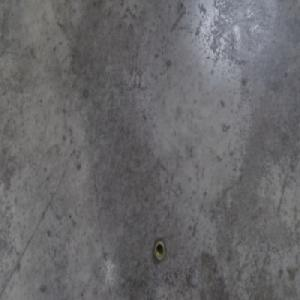Nut: (153, 237, 165, 263)
